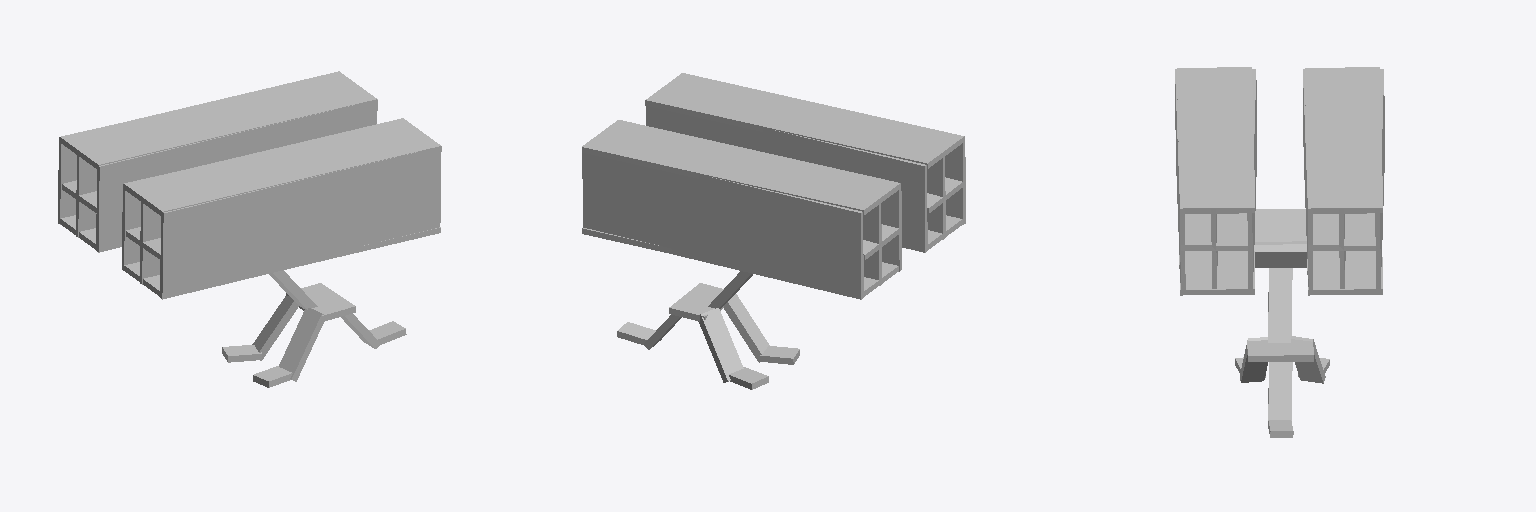
The model's file is Rocket Launcher Model yeeet.obj.
The picture shows the model from 3 angles: view 1: azimuth 30°, elevation 25°; view 2: azimuth 150°, elevation 25°; view 3: azimuth 270°, elevation 25°; orthographic projection.
Parts seen in each view (by area): view 1: Cube.016_Cube.018, Cube.018_Cube.020, Cube.019_Cube.021, Cube.021_Cube.023, Cube_Cube.001, Cube.014_Cube.015, Cube.023_Cube.025, Cube.006_Cube.007, Cube.020_Cube.022, Cube.017_Cube.019, Cube.011_Cube.012, Cube.003_Cube.004 (+3 smaller); view 2: Cube.020_Cube.022, Cube.018_Cube.020, Cube.019_Cube.021, Cube.017_Cube.019, Cube.003_Cube.004, Cube_Cube.001, Cube.021_Cube.023, Cube.016_Cube.018, Cube.006_Cube.007, Cube.023_Cube.025, Cube.014_Cube.015, Cube.024_Cube.026 (+4 smaller); view 3: Cube.018_Cube.020, Cube.019_Cube.021, Cube.024_Cube.026, Cube.011_Cube.012, Cube.015_Cube.016, Cube.022_Cube.024, Cube.012_Cube.013, Cube.010_Cube.011, Cube.004_Cube.005, Cube.006_Cube.007, Cube.009_Cube.010, Cube.017_Cube.019 (+5 smaller).
Part boxes in pixels (x1,y1,x2,y2): Cube.016_Cube.018: (160,146,441,299); Cube.018_Cube.020: (124,118,440,216); Cube.019_Cube.021: (60,71,376,170); Cube.021_Cube.023: (96,99,377,252); Cube_Cube.001: (279,308,323,381); Cube.014_Cube.015: (140,202,160,284); Cube.023_Cube.025: (76,155,96,237); Cube.006_Cube.007: (286,283,355,321); Cube.020_Cube.022: (58,125,109,224); Cube.017_Cube.019: (122,172,172,270); Cube.011_Cube.012: (124,227,440,296); Cube.003_Cube.004: (252,296,298,360); Cube.020_Cube.022: (582,153,863,299); Cube.018_Cube.020: (645,73,964,168); Cube.019_Cube.021: (582,120,900,215); Cube.017_Cube.019: (646,106,927,252); Cube.003_Cube.004: (698,308,743,382); Cube_Cube.001: (724,294,769,362); Cube.021_Cube.023: (881,189,901,271); Cube.016_Cube.018: (945,142,965,224); Cube.006_Cube.007: (669,283,723,321); Cube.023_Cube.025: (863,204,881,285); Cube.014_Cube.015: (927,157,945,239); Cube.024_Cube.026: (582,228,898,296); Cube.018_Cube.020: (1177,67,1254,213); Cube.019_Cube.021: (1305,67,1382,213); Cube.024_Cube.026: (1307,251,1382,295); Cube.011_Cube.012: (1179,251,1254,295); Cube.015_Cube.016: (1181,213,1247,250); Cube.022_Cube.024: (1309,213,1375,250); Cube.012_Cube.013: (1268,268,1292,342); Cube.010_Cube.011: (1255,209,1306,241); Cube.004_Cube.005: (1268,362,1292,420); Cube.006_Cube.007: (1247,339,1313,361); Cube.009_Cube.010: (1254,244,1306,267); Cube.017_Cube.019: (1247,69,1256,288).
Size of the model in its own units: 12.79 by 9.88 by 7.98.